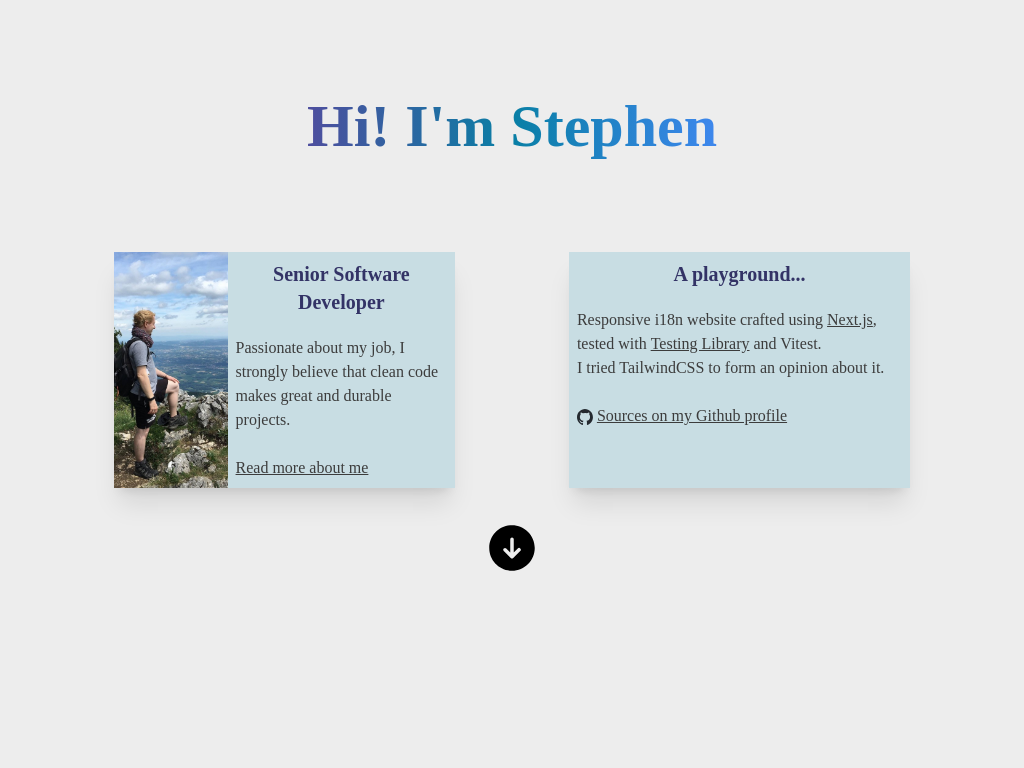
Test: DashboardPage › when user clicks to view more arrow down › it should show the skills
The image size is (1024, 768).
Click the link with alt text "View more" at (512, 548), box [484, 520, 540, 576]
(page scrolled)
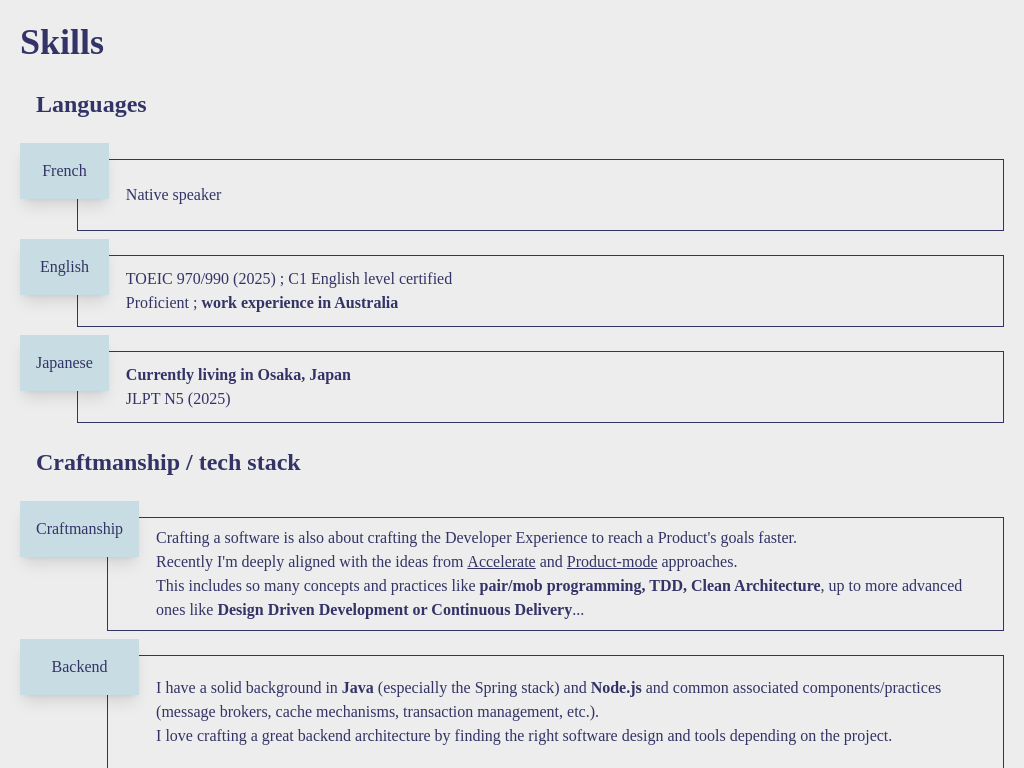
Result: the heading "Skills" is shown at [20, 22, 104, 62]
